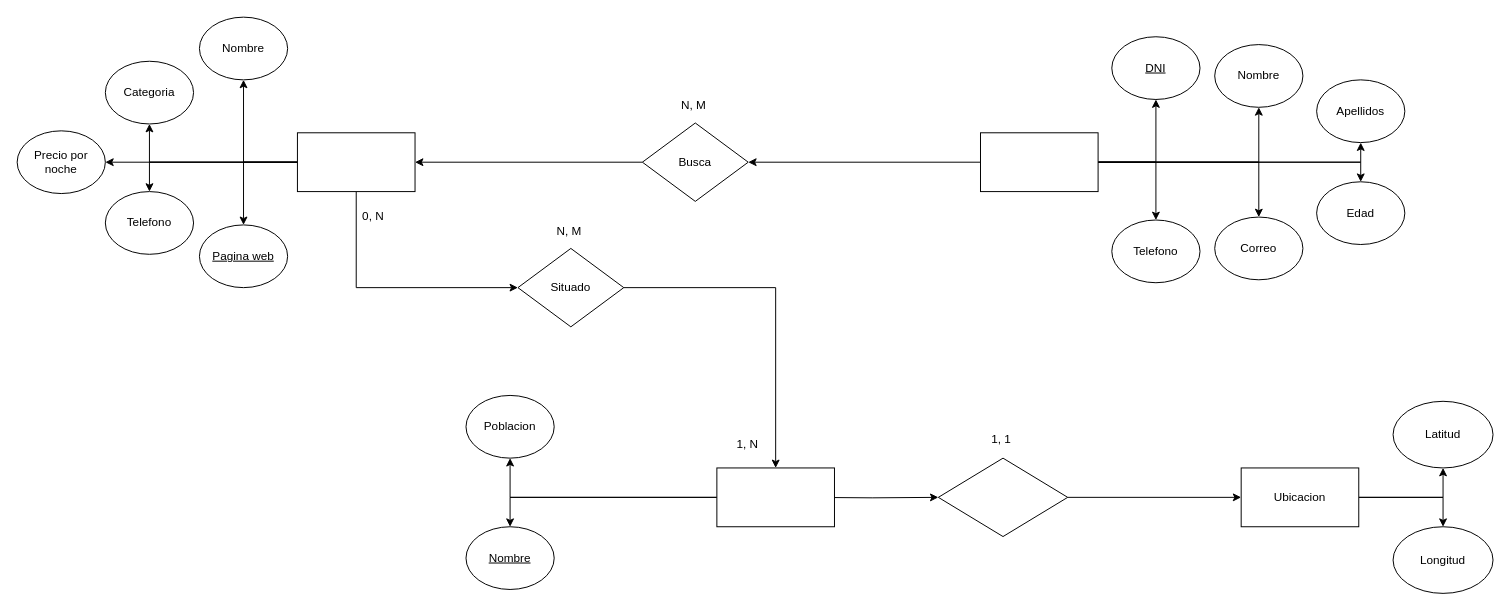
Image size: 1510x611. Some labels were removed from this diagram. Here are the shapes that lost their labels. From the top down, the centre of each, then its label:
At (x=355, y=162): "Hoteles".
At (x=1039, y=162): "Usuario".
At (x=775, y=497): "Ciudad".
At (x=1002, y=497): "Esta".
